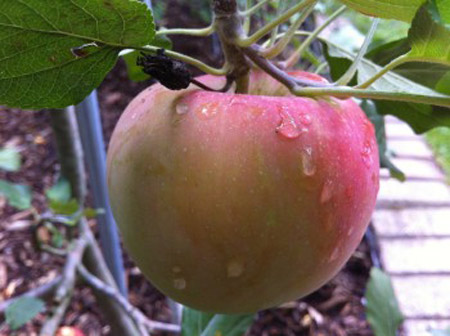apple: (104, 68, 384, 319)
